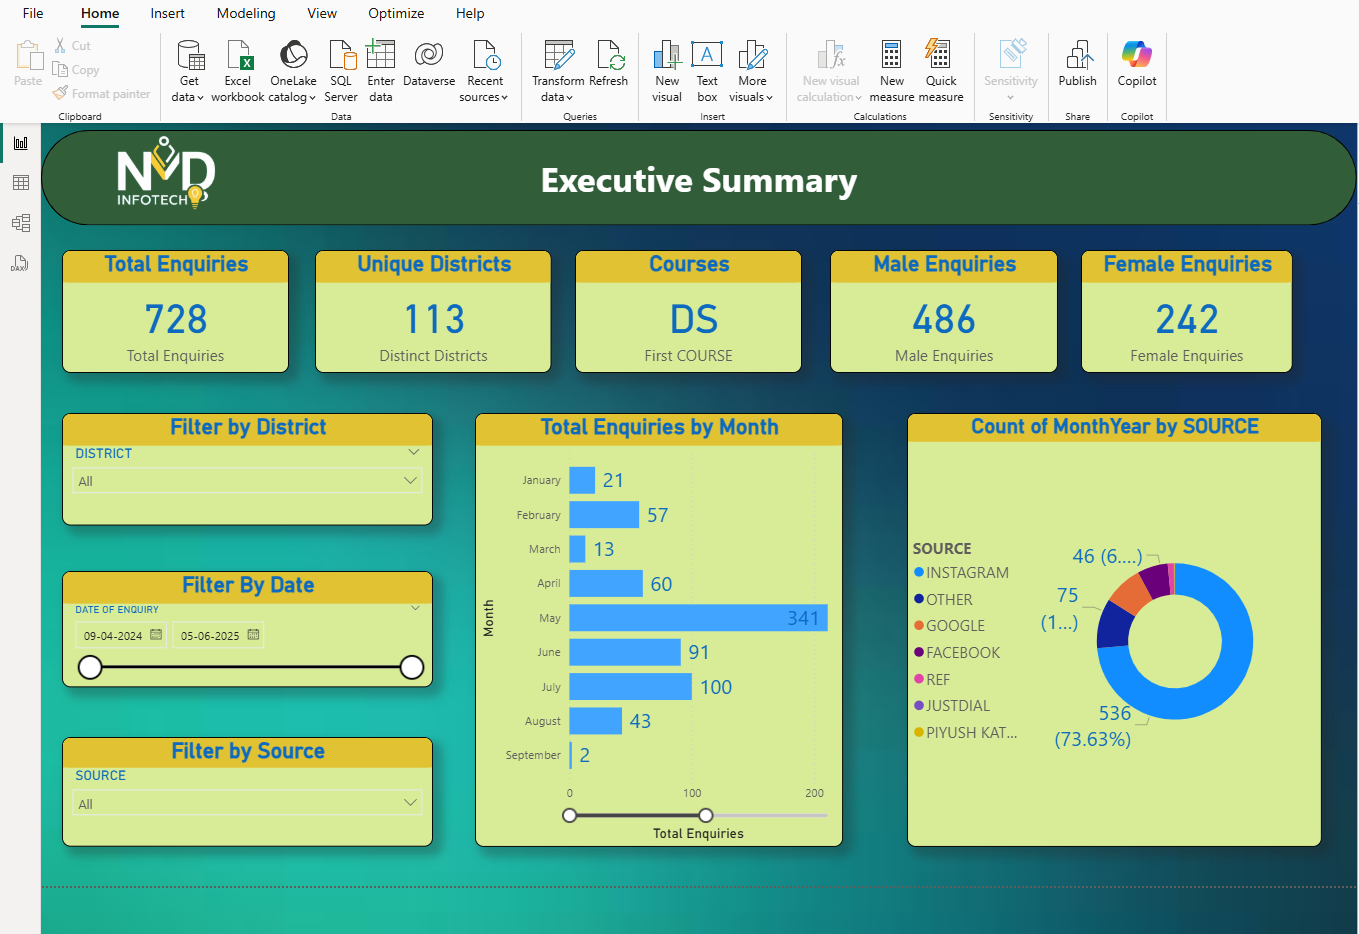

This screenshot's page, from the dashboard's own definition file:
{"tool":"powerbi","page":{"name":"Executive Summaey","canvas":[1380,800],"ordinal":0},"visuals":[{"type":"card","title":"Total Enquiries","fields":{"Values":["Sheet1.Total Enquiries"]},"box":[22,133.2,238,129],"z":0},{"type":"card","title":"Unique Districts","fields":{"Values":["Sheet1.Distinct Districts"]},"box":[286.9,133.3,248.5,129.3],"z":1000},{"type":"card","title":"Male Enquiries","fields":{"Values":["Sheet1.Male Enquiries"]},"box":[827.3,133.3,239.4,129.3],"z":2000},{"type":"card","title":"Female Enquiries","fields":{"Values":["Sheet1.Female Enquiries"]},"box":[1090.9,133.3,222.2,129.3],"z":3000},{"type":"card","title":"Courses","fields":{"Values":["Sheet1.COURSE"]},"box":[559.6,133.3,238.4,129.3],"z":4000},{"type":"slicer","title":"Filter by District","fields":{"Values":["Sheet1.DISTRICT"]},"box":[22,304.1,389,118.5],"z":5000},{"type":"shape","box":[0,7.3,1379.7,100],"z":6000,"group":"g1"},{"type":"slicer","title":"Filter By Date","fields":{"Values":["Sheet1.DATE OF ENQUIRY"]},"box":[22,469.8,389,121.6],"z":6000},{"type":"image","box":[0,7.3,260.9,91.1],"z":7000,"group":"g1"},{"type":"slicer","title":"Filter by Source","fields":{"Values":["Sheet1.SOURCE"]},"box":[22,643.9,389,115.3],"z":7000},{"type":"donutChart","fields":{"Y":["Sheet1.MonthYear"],"Category":["Sheet1.SOURCE"]},"box":[908.1,304.1,435.2,455.1],"z":8000},{"type":"group","id":"g1","title":"Group 2","box":[0,7.3,1380,99.6],"z":9000},{"type":"barChart","fields":{"Category":["Sheet1.DATE OF ENQUIRY.Variation.Date Hierarchy.Month"],"Y":["Sheet1.Total Enquiries"]},"box":[455.1,304.1,385.9,455.1],"z":10000}]}

Visuals, with their boxes on the page's 1380x800 design canvas (x1, y1, x2, y2). These are canvas units, not pixel positions in the 1359x934 screenshot, which may show the page scaled, cropped or inside an application window:
"Total Enquiries" card: <bbox>22, 133, 260, 262</bbox>
"Unique Districts" card: <bbox>287, 133, 535, 263</bbox>
"Male Enquiries" card: <bbox>827, 133, 1067, 263</bbox>
"Female Enquiries" card: <bbox>1091, 133, 1313, 263</bbox>
"Courses" card: <bbox>560, 133, 798, 263</bbox>
"Filter by District" slicer: <bbox>22, 304, 411, 423</bbox>
shape: <bbox>0, 7, 1380, 107</bbox>
"Filter By Date" slicer: <bbox>22, 470, 411, 591</bbox>
image: <bbox>0, 7, 261, 98</bbox>
"Filter by Source" slicer: <bbox>22, 644, 411, 759</bbox>
donutChart - Sheet1.MonthYear x Sheet1.SOURCE: <bbox>908, 304, 1343, 759</bbox>
"Group 2" group: <bbox>0, 7, 1380, 107</bbox>
barChart - Sheet1.DATE OF ENQUIRY.Variation.Date Hierarchy.Month x Sheet1.Total Enquiries: <bbox>455, 304, 841, 759</bbox>
